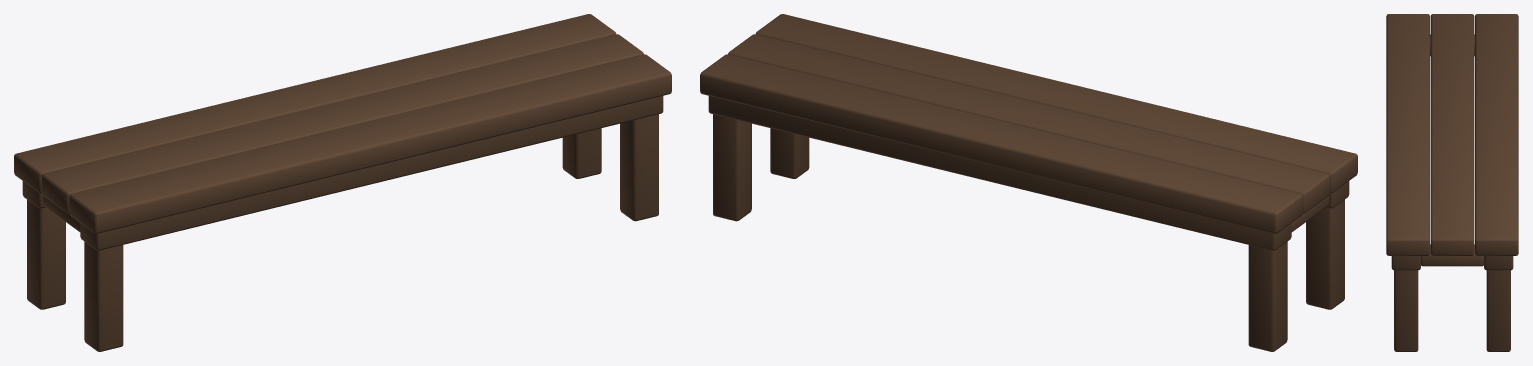
File: ChairLongWood.fbx
The picture shows the model from 3 angles, left to right: view 1: azimuth 30°, elevation 25°; view 2: azimuth 150°, elevation 25°; view 3: azimuth 270°, elevation 25°; orthographic projection. The views are drawn at different scales.
Parts seen in each view (by area): view 1: Cube.006; view 2: Cube.006; view 3: Cube.006.
Boxes of the visible parts, bbox=[...] form: Cube.006: bbox=[14, 14, 671, 351]; Cube.006: bbox=[700, 14, 1357, 351]; Cube.006: bbox=[1386, 14, 1518, 351].
Size of the model in its own units: 0.544 by 2.2 by 0.53.
